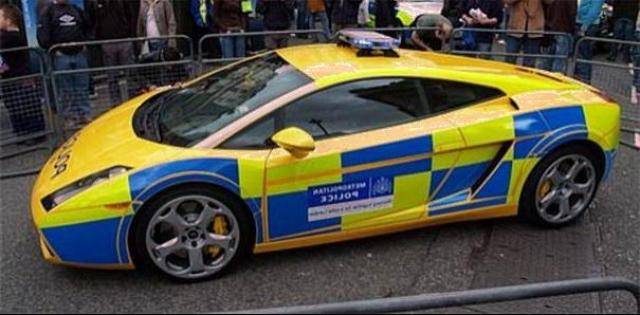police_car: (31, 31, 622, 287)
